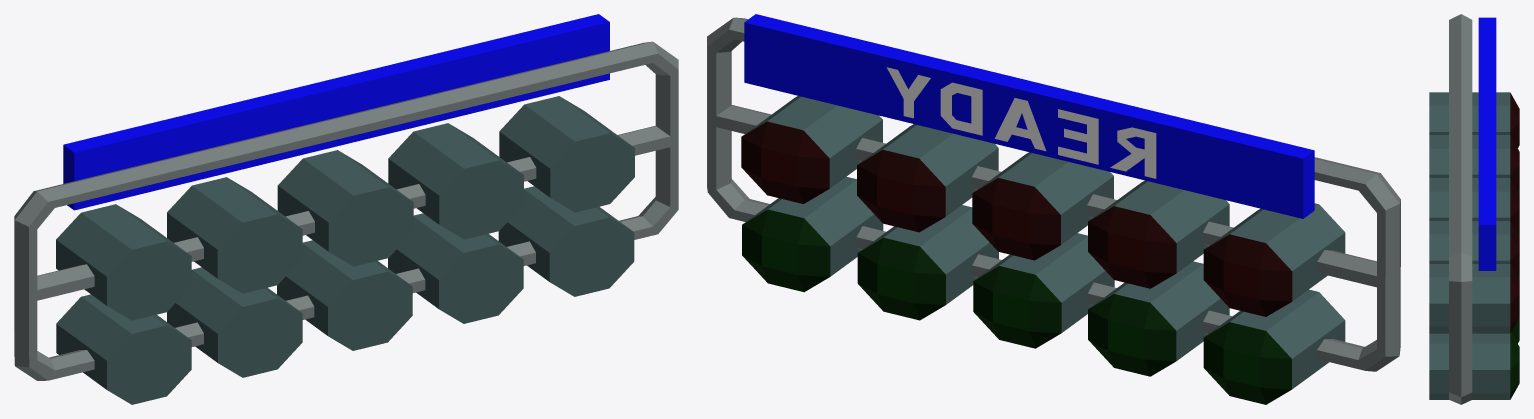
3 renders of one model, left to right at view 1: azimuth 30°, elevation 25°; view 2: azimuth 150°, elevation 25°; view 3: azimuth 270°, elevation 25°, orthographic. The views are drawn at different scales.
Parts seen in each view (by area): view 1: OD6A24; view 2: OD6A24; view 3: OD6A24.
Part boxes in pixels (<box>): OD6A24: <box>14,14,678,404</box>; OD6A24: <box>707,14,1400,404</box>; OD6A24: <box>1429,14,1519,404</box>.
Bounding box in the file's own units: 4.8 × 1.63 × 0.711.
